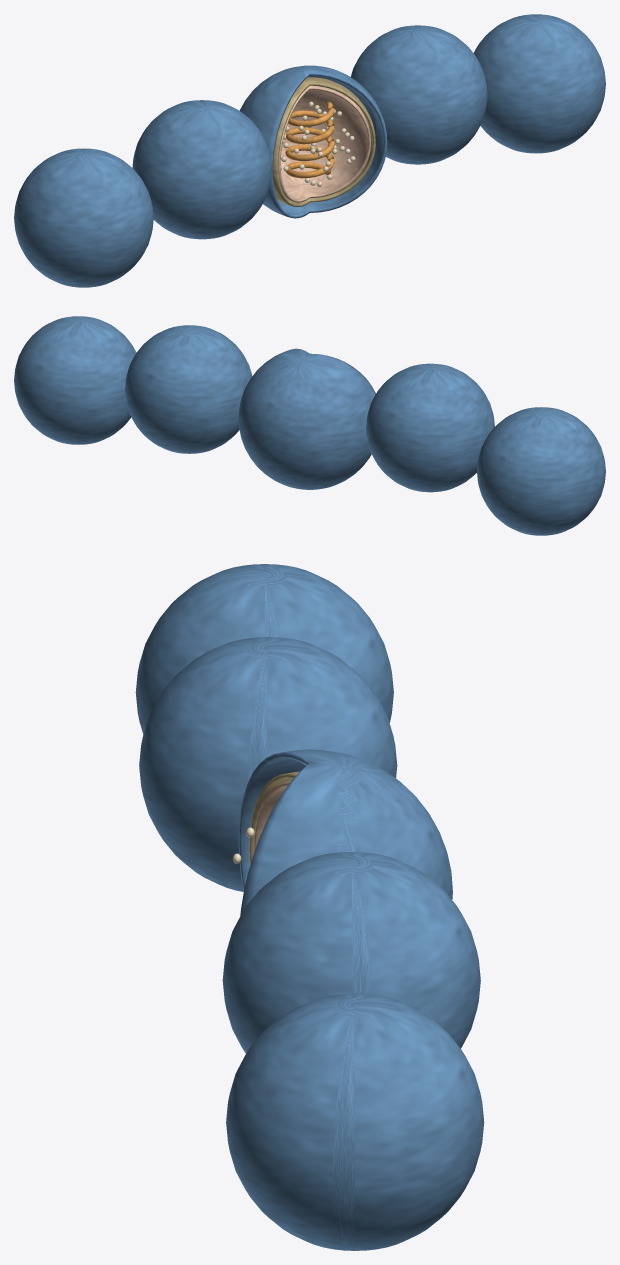
File: cutaway.glb
The picture shows the model from 3 angles, top to bottom: view 1: azimuth 30°, elevation 25°; view 2: azimuth 150°, elevation 25°; view 3: azimuth 270°, elevation 25°; orthographic projection. The views are drawn at different scales.
Visible parts, largest first — view 1: parede_mesh, citoplasma_mesh, nucleoide_mesh, membrana_mesh, ribossomos_mesh; view 2: parede_mesh; view 3: parede_mesh.
Part boxes in pixels (<box>): parede_mesh: <box>14,14,605,287</box>; citoplasma_mesh: <box>278,85,370,202</box>; nucleoide_mesh: <box>285,101,334,178</box>; membrana_mesh: <box>273,77,375,206</box>; ribossomos_mesh: <box>280,101,355,186</box>; parede_mesh: <box>14,316,605,535</box>; parede_mesh: <box>135,564,484,1250</box>.
Size of the model in its own units: 6.42 by 1.49 by 1.75.
5 materials, 5 textured.
